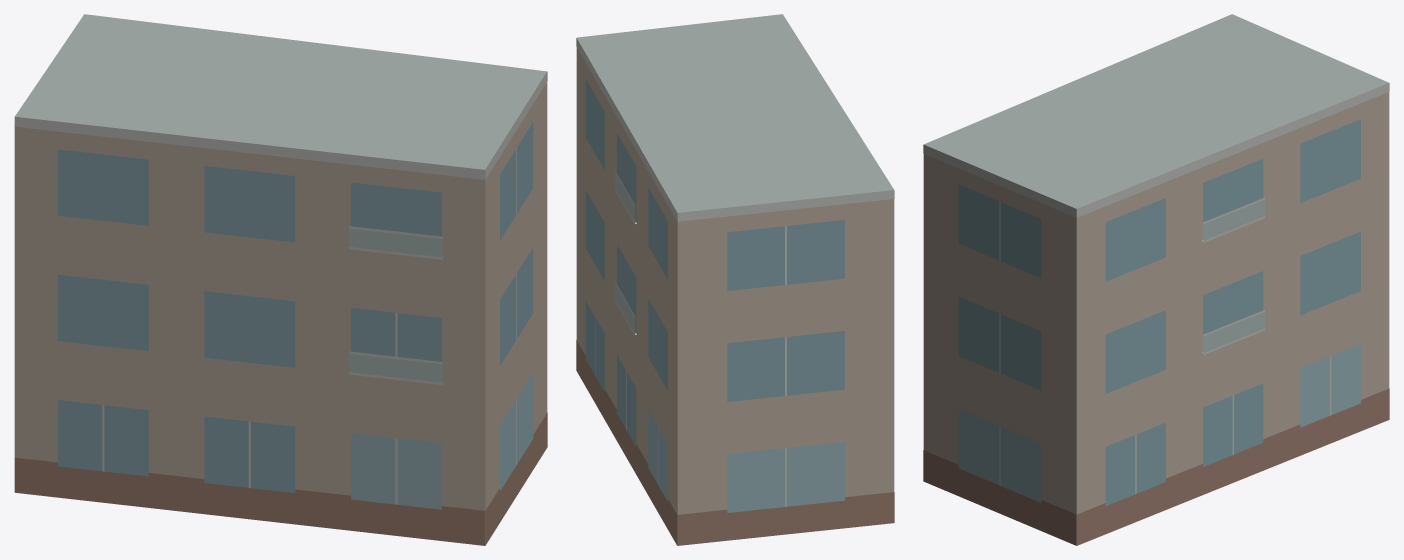
File: survey-upis-33038746.glb
3 renders of one model, left to right at view 1: azimuth 30°, elevation 25°; view 2: azimuth 150°, elevation 25°; view 3: azimuth 270°, elevation 25°, orthographic. The views are drawn at different scales.
Parts seen in each view (by area): view 1: survey-upis-33038746.tmp; view 2: survey-upis-33038746.tmp; view 3: survey-upis-33038746.tmp.
Part boxes in pixels (x1=…): survey-upis-33038746.tmp: x1=14, y1=14, x2=547, y2=545; survey-upis-33038746.tmp: x1=576, y1=14, x2=894, y2=545; survey-upis-33038746.tmp: x1=923, y1=14, x2=1389, y2=545.
Size of the model in its own units: 11.36 by 9.15 by 11.47.
